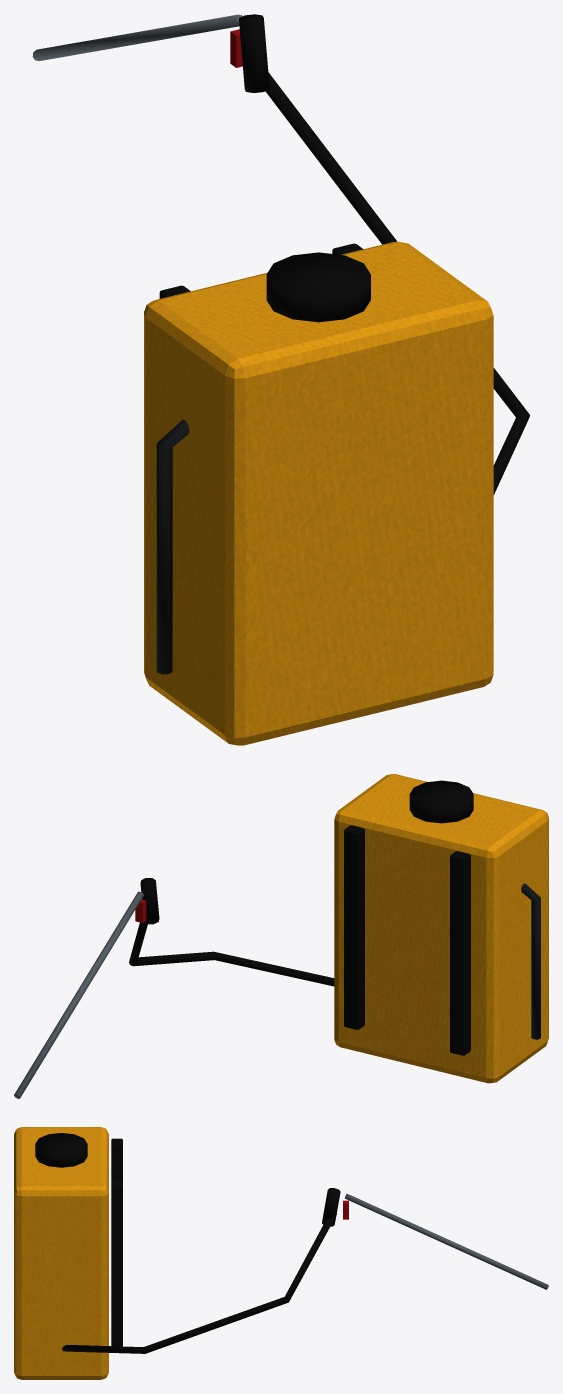
The model's file is BackpackSprayer.gltf.
3 views of the same model, one above another, from view 1: azimuth 30°, elevation 25°; view 2: azimuth 150°, elevation 25°; view 3: azimuth 270°, elevation 25° (orthographic). The views are drawn at different scales.
Parts seen in each view (by area): view 1: BackpackSprayer__Body; view 2: BackpackSprayer__Body; view 3: BackpackSprayer__Body.
Part boxes in pixels (box(x1,y1,x2,y2)): BackpackSprayer__Body: box(32, 14, 529, 745); BackpackSprayer__Body: box(14, 774, 548, 1098); BackpackSprayer__Body: box(14, 1127, 548, 1379).
Bounding box in the file's own units: 0.6193 × 0.5485 × 1.26.
Materials: 1 (1 with a texture image).
